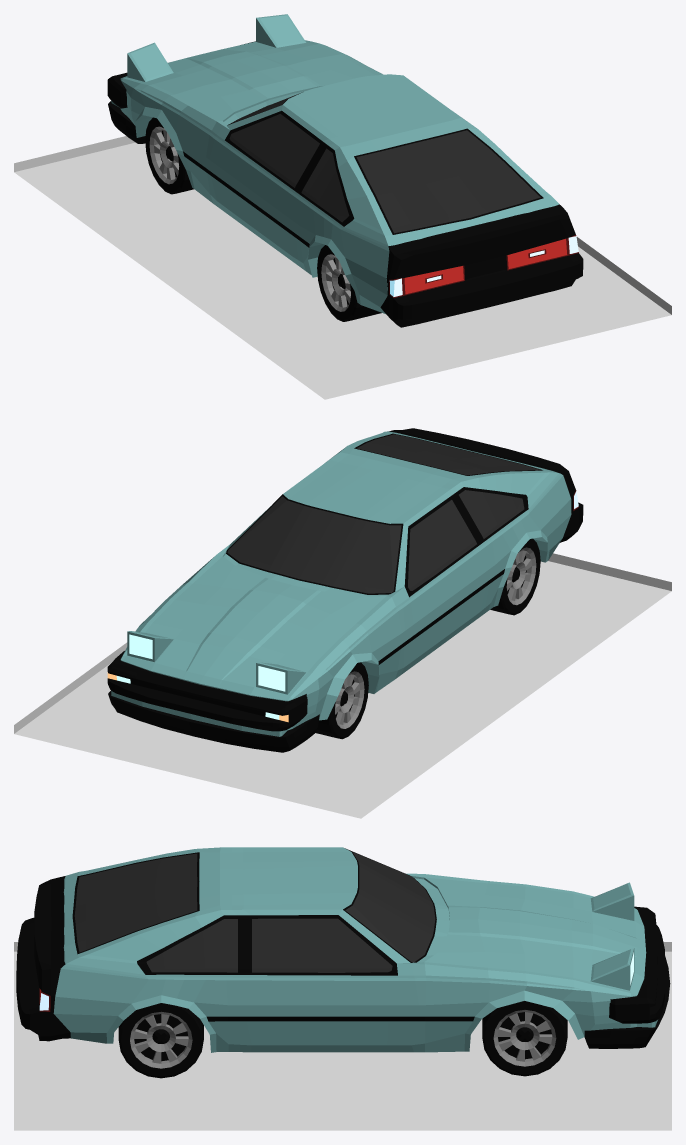
File: ToyotaCelicaSupra1982_lowpoly.gltf
3 views of the same model, one above another, from view 1: azimuth 30°, elevation 25°; view 2: azimuth 150°, elevation 25°; view 3: azimuth 270°, elevation 25° (orthographic). The views are drawn at different scales.
Parts seen in each view (by area): view 1: Main_body, Plane, Back, Wheels_back, Wheels_front, Front_down; view 2: Main_body, Plane, Front_up, Front_down, Back, Wheels_front, Wheels_back; view 3: Main_body, Plane, Back, Wheels_front, Wheels_back, Front_up, Front_down.
Part boxes in pixels (left/top/right/bottom): Main_body: left=111, top=14, right=558, bottom=313; Plane: left=14, top=136, right=671, bottom=399; Back: left=380, top=204, right=583, bottom=327; Wheels_back: left=317, top=245, right=381, bottom=321; Wheels_front: left=145, top=117, right=193, bottom=194; Front_down: left=108, top=101, right=145, bottom=143; Main_body: left=111, top=431, right=571, bottom=736; Plane: left=14, top=553, right=671, bottom=818; Front_up: left=107, top=651, right=307, bottom=731; Front_down: left=108, top=690, right=319, bottom=752; Back: left=389, top=428, right=583, bottom=542; Wheels_front: left=315, top=662, right=368, bottom=739; Wheels_back: left=490, top=538, right=540, bottom=615; Main_body: left=53, top=847, right=657, bottom=1052; Plane: left=14, top=942, right=671, bottom=1130; Back: left=16, top=876, right=70, bottom=1041; Wheels_front: left=482, top=1001, right=567, bottom=1076; Wheels_back: left=118, top=1003, right=203, bottom=1078; Front_up: left=609, top=906, right=664, bottom=1023; Front_down: left=584, top=956, right=670, bottom=1048.
Size of the model in its own units: 2.25 by 0.9628 by 3.49.
